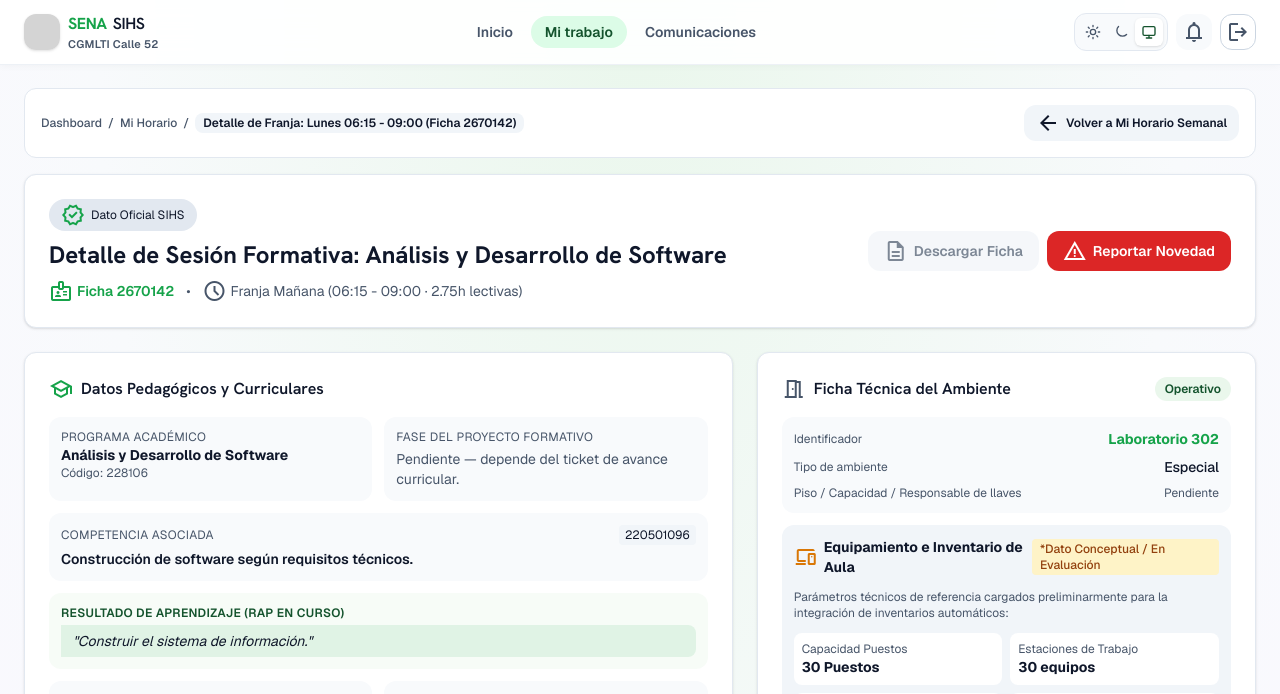
Test: DetalleFranjaAmbiente › reportar una novedad manda el tipo y el motivo a /solicitudes-cambio-horario
The width and height of the screenshot is (1280, 694).
Check: the heading "Detalle de Sesión Formativa: Análisis y Desarrollo de Software" is shown, box 49,239 -> 727,271
Click the button "Reportar Novedad". click: (1139, 251)
box: 1047,231 -> 1231,271
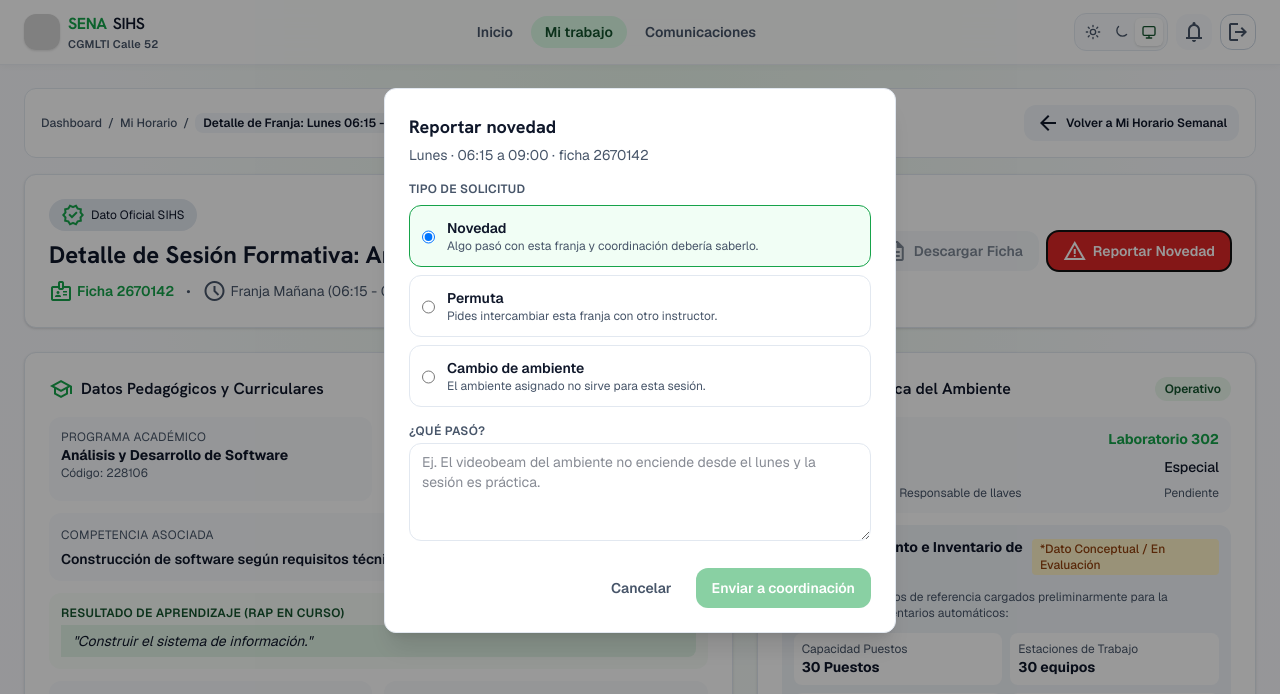
Click the radio button labelled "Cambio de ambiente". click: (428, 376)
box: 422,360 -> 435,394
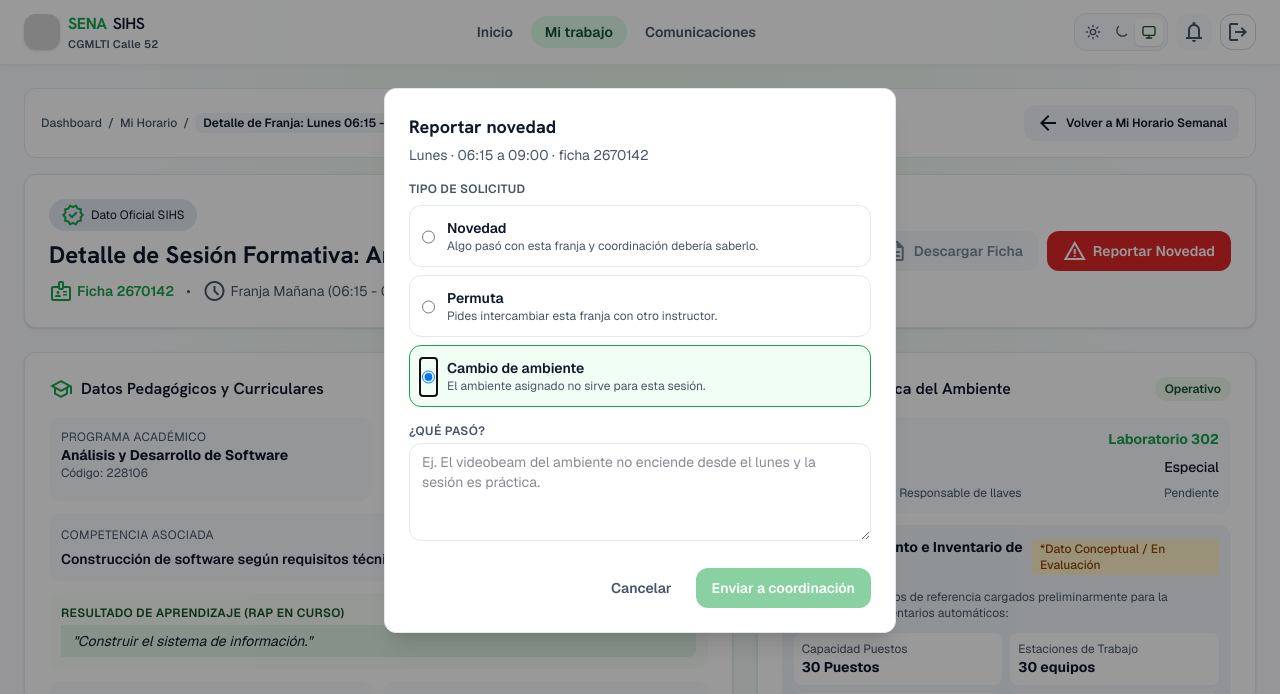
Type "El videobeam no enciende." into the text box labelled "¿Qué pasó?". click: (640, 492)
box: 409,442 -> 871,540
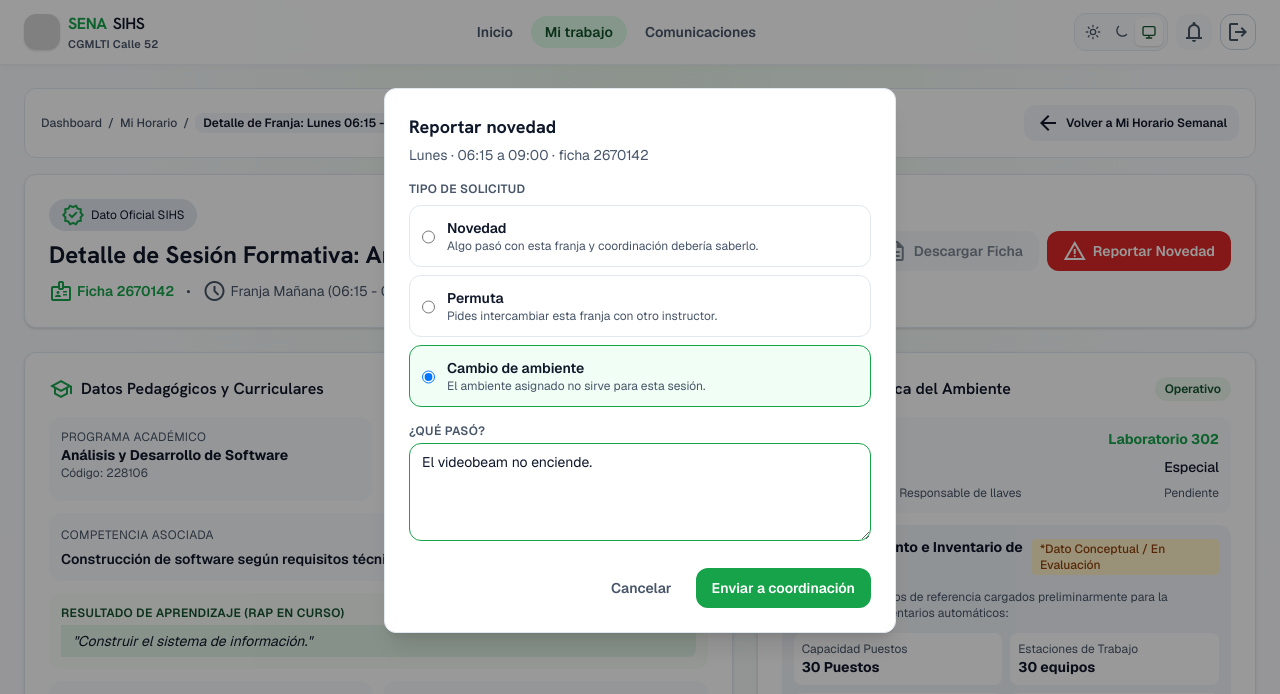
Click the button "Enviar a coordinación". click: (783, 588)
box: 696,568 -> 871,608
(page scrolled)
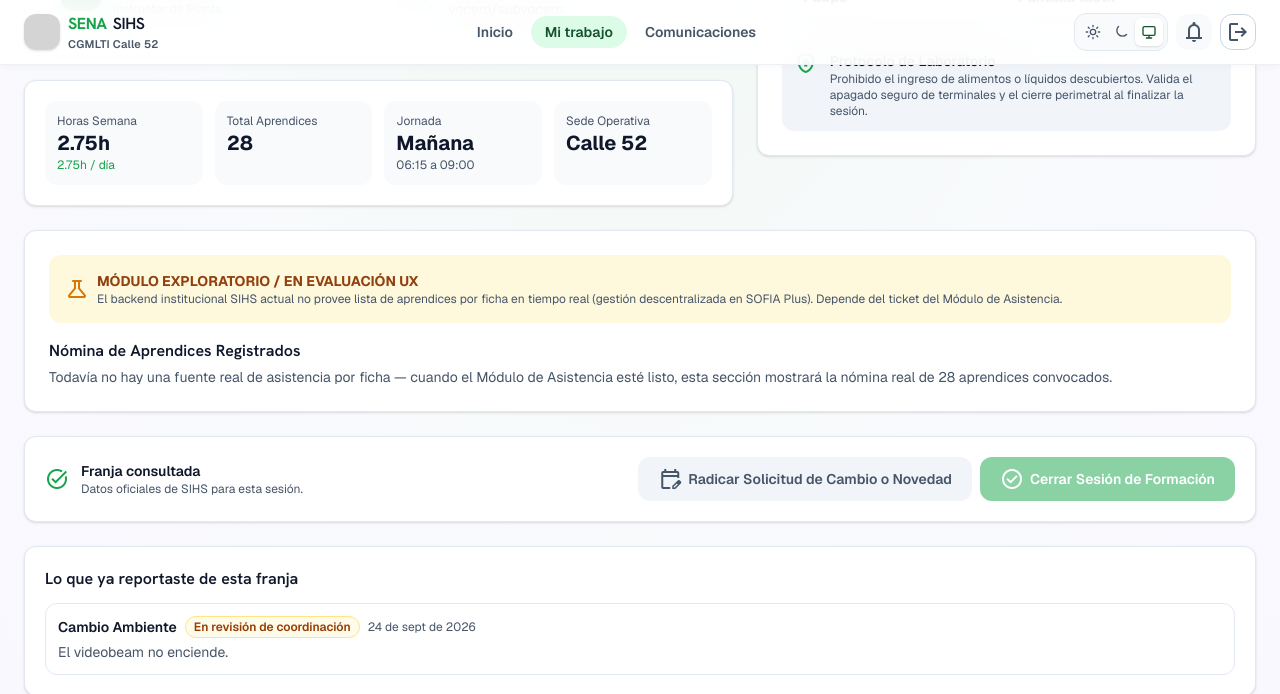
Check: the heading "Lo que ya reportaste de esta franja" is shown, box 45,568 -> 298,589
Check: the text "En revisión de coordinación" is shown, box 185,616 -> 360,638
